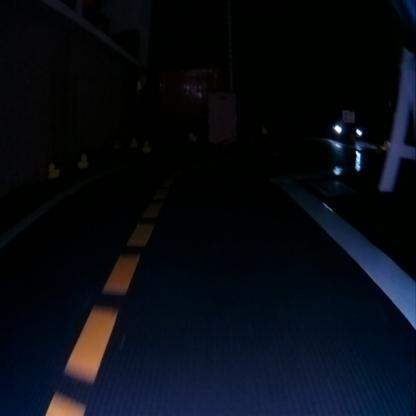Duckie: (46, 162, 60, 179), (78, 153, 89, 169), (140, 140, 150, 152), (129, 136, 137, 147), (112, 139, 120, 149)
Duckiebot: (332, 116, 362, 140)
QR code: (309, 178, 356, 196)
